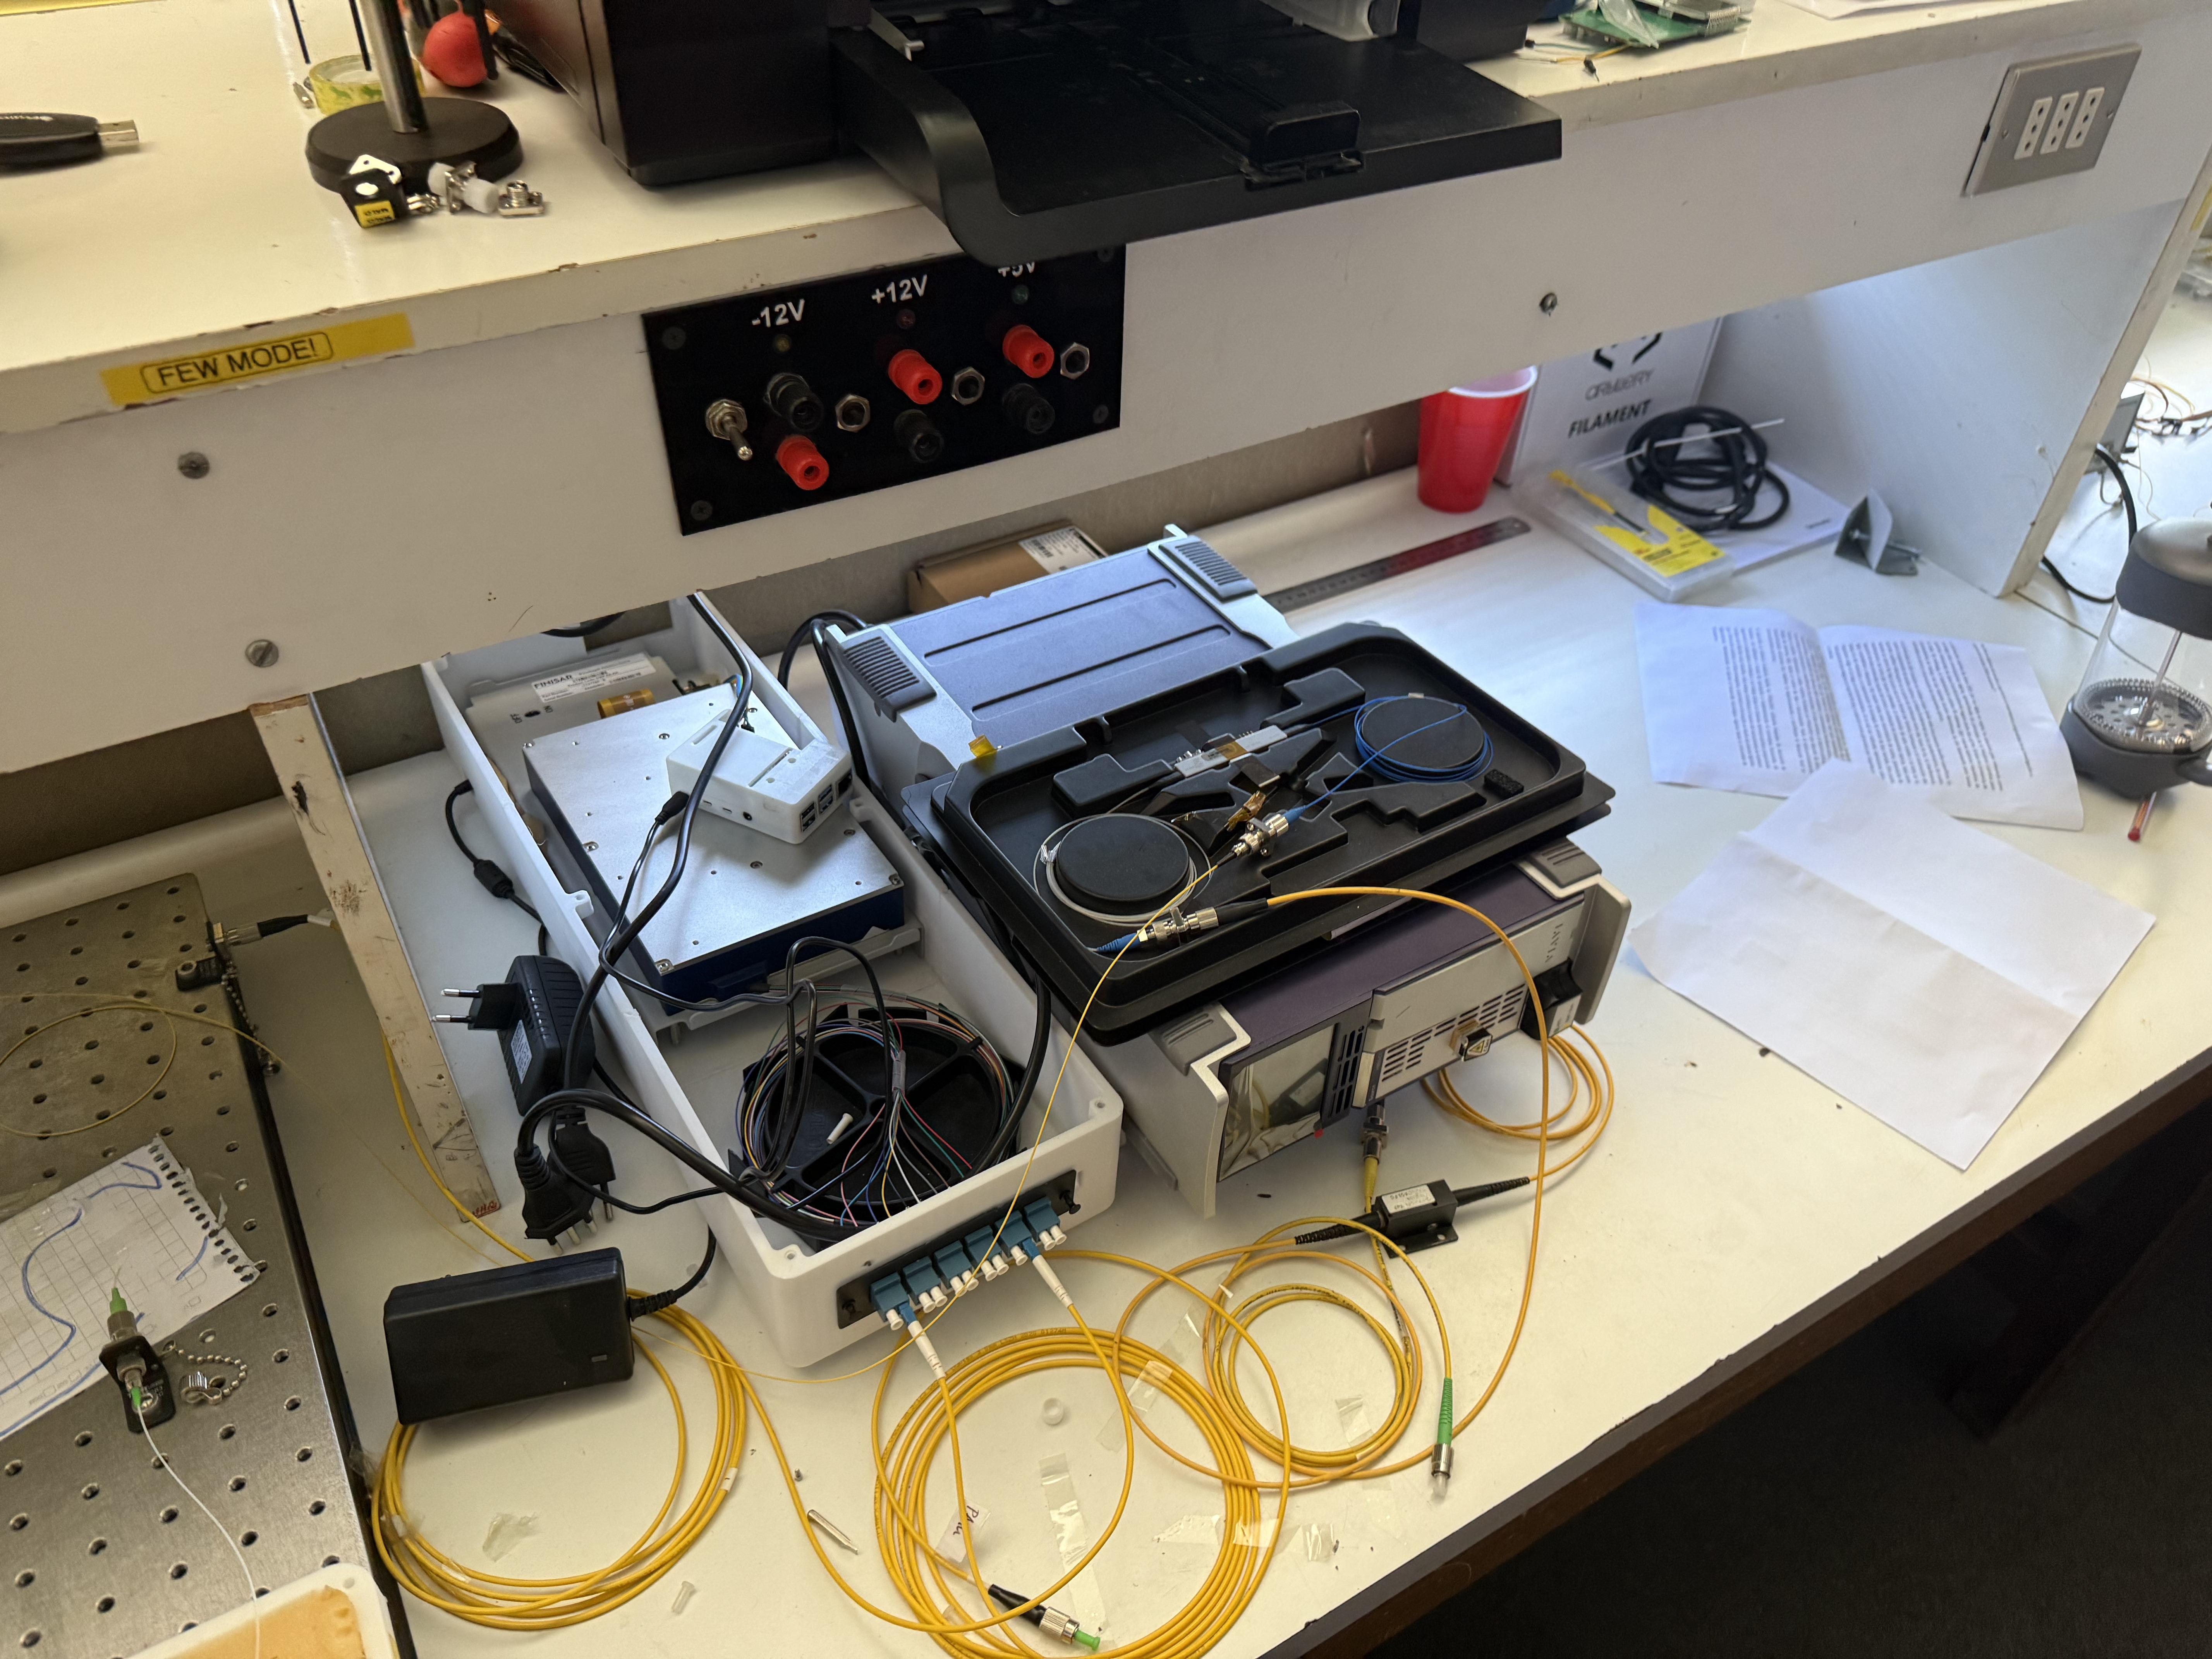fiber_cable: (820, 1272, 1540, 1659), (329, 1230, 786, 1633)
laser: (801, 519, 1646, 1175)
